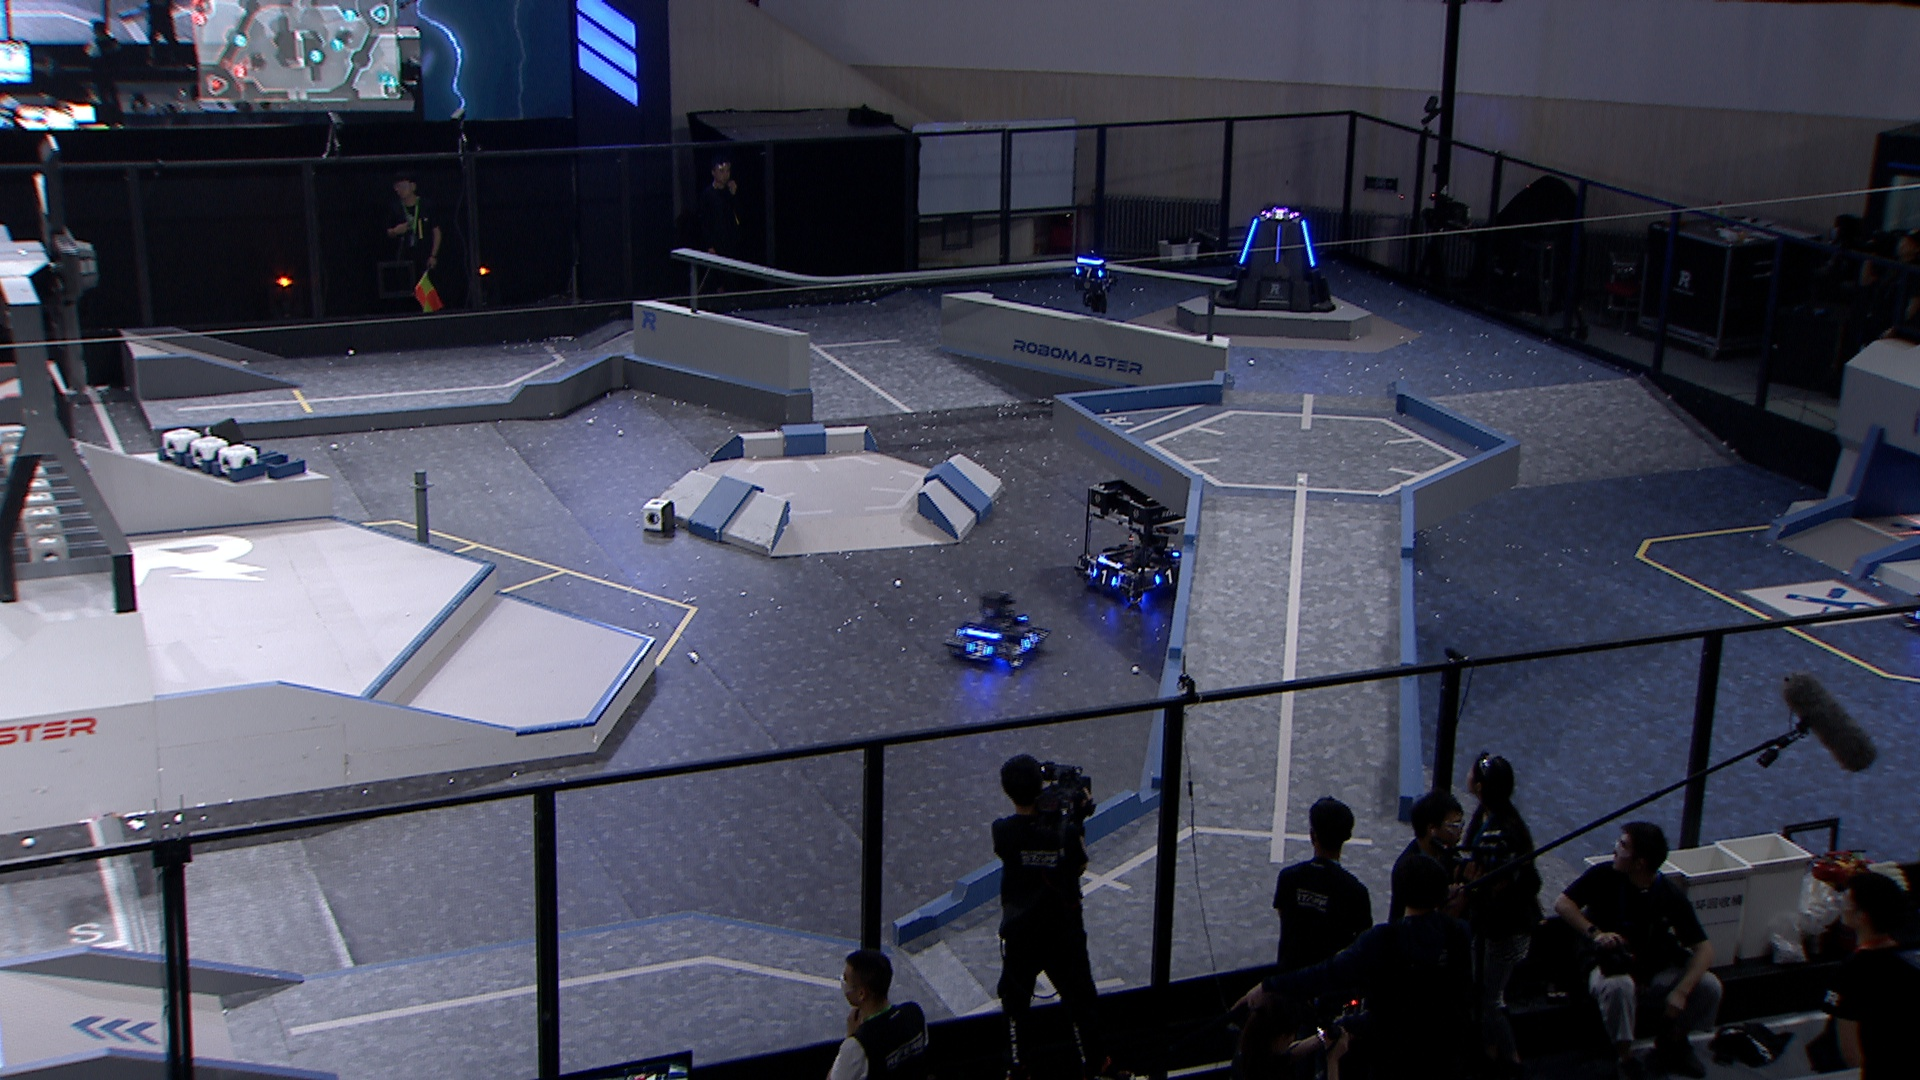armor: (1236, 216, 1261, 266), (1300, 216, 1317, 268), (961, 637, 993, 659), (1092, 564, 1120, 585), (1153, 566, 1182, 585), (1073, 264, 1105, 280), (1273, 222, 1284, 262), (1019, 626, 1038, 651)
base: (1209, 204, 1338, 315)
car: (1073, 469, 1204, 608), (942, 589, 1051, 673)
ignore: (1263, 207, 1299, 222)
watcher: (1068, 249, 1120, 315)
